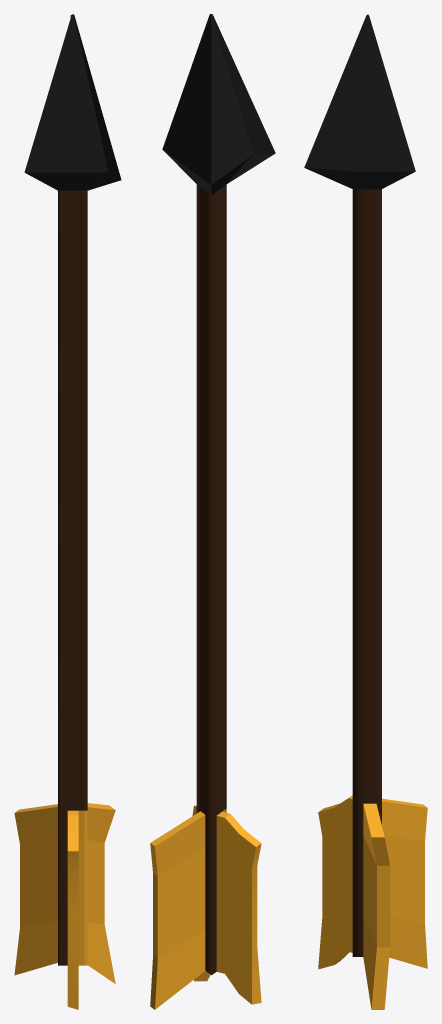
File: Arrow_de_nisidro.FBX
The picture shows the model from 3 angles, left to right: view 1: azimuth 90°, elevation 25°; view 2: azimuth 150°, elevation 25°; view 3: azimuth 330°, elevation 25°; orthographic projection.
Visible parts, largest first — view 1: Cylinder001; view 2: Cylinder001; view 3: Cylinder001.
Boxes of the visible parts, box(x1,y1,x2,y2) form: Cylinder001: box(14, 14, 121, 1009); Cylinder001: box(150, 14, 275, 1009); Cylinder001: box(304, 14, 427, 1009).
Bounding box in the file's own units: 3.09 × 30.25 × 2.99.
